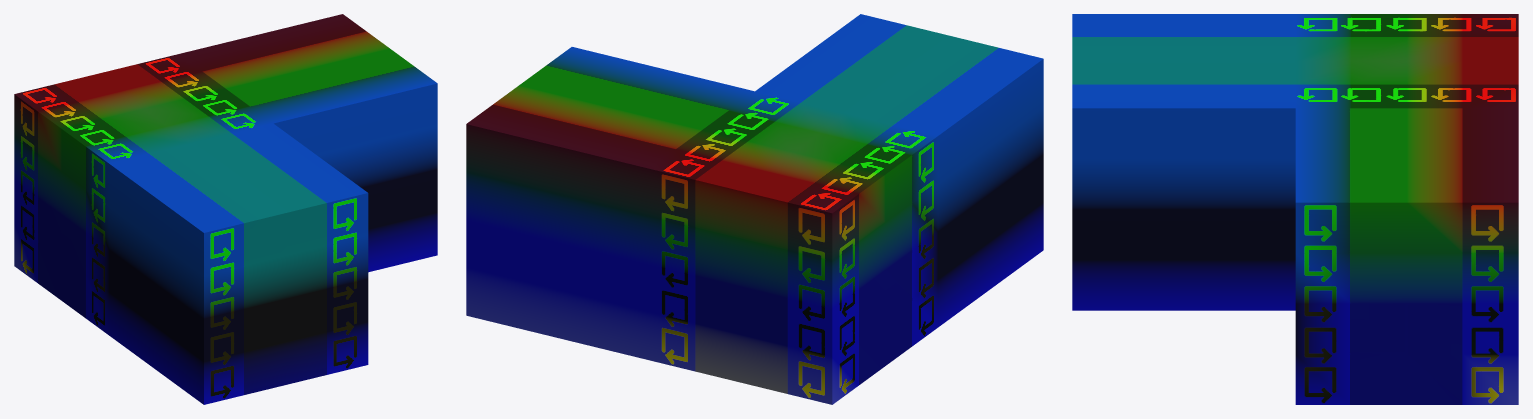
The model's file is L_TypeObj.gltf.
The picture shows the model from 3 angles, left to right: view 1: azimuth 30°, elevation 25°; view 2: azimuth 150°, elevation 25°; view 3: azimuth 270°, elevation 25°; orthographic projection. The views are drawn at different scales.
Parts seen in each view (by area): view 1: Cube.001; view 2: Cube.001; view 3: Cube.001.
Boxes of the visible parts, <box> form: Cube.001: <box>14,14,437,404</box>; Cube.001: <box>466,14,1043,404</box>; Cube.001: <box>1072,14,1518,404</box>.
Bounding box in the file's own units: 7 × 3.5 × 7.
Materials: 1 (1 with a texture image).
